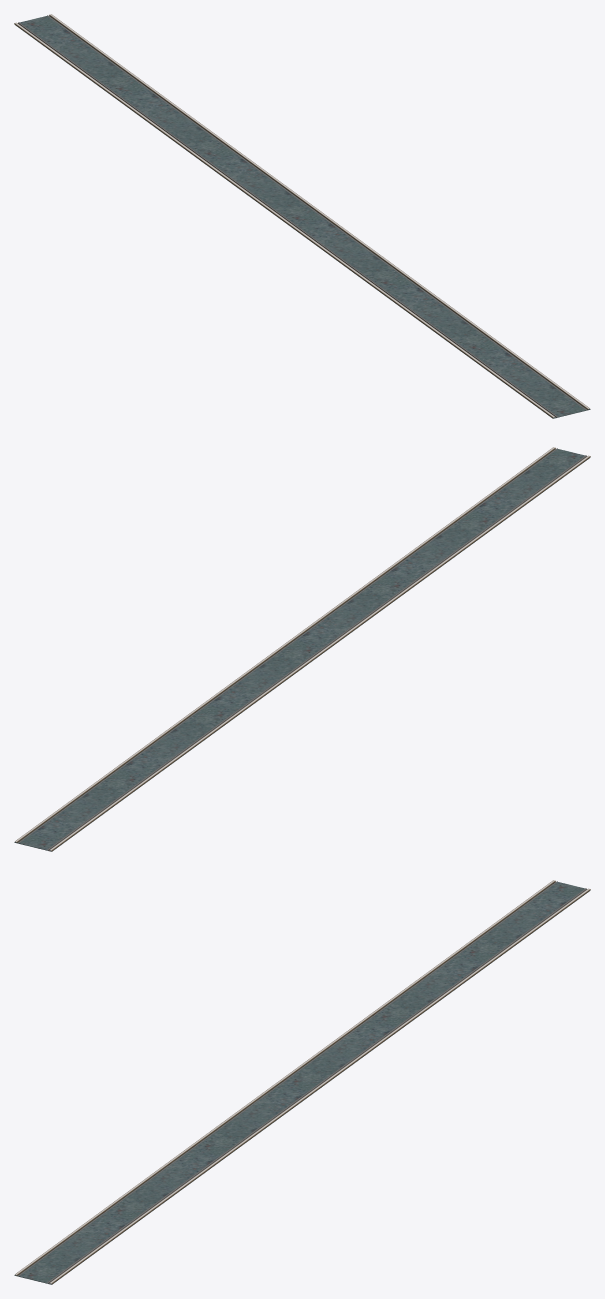
Rendered from RAIL_ROMEN.glb.
The picture shows the model from 3 angles, top to bottom: view 1: azimuth 30°, elevation 25°; view 2: azimuth 150°, elevation 25°; view 3: azimuth 330°, elevation 25°; orthographic projection.
Visible parts, largest first — view 1: Model; view 2: Model; view 3: Model.
Part boxes in pixels (x1,y1,x2,y2): Model: [14, 14, 590, 418]; Model: [14, 447, 590, 851]; Model: [14, 880, 590, 1284].
Bounding box in the file's own units: 4.07 × 0.1604 × 100.
2 materials, 1 textured.
